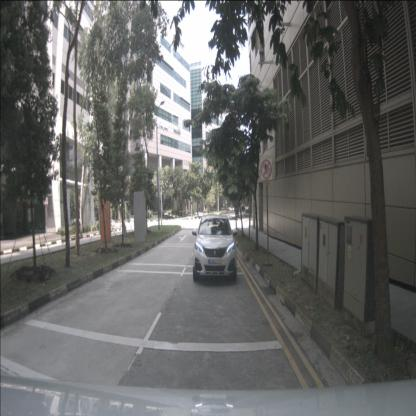vehicle-car: (193, 214, 237, 282)
